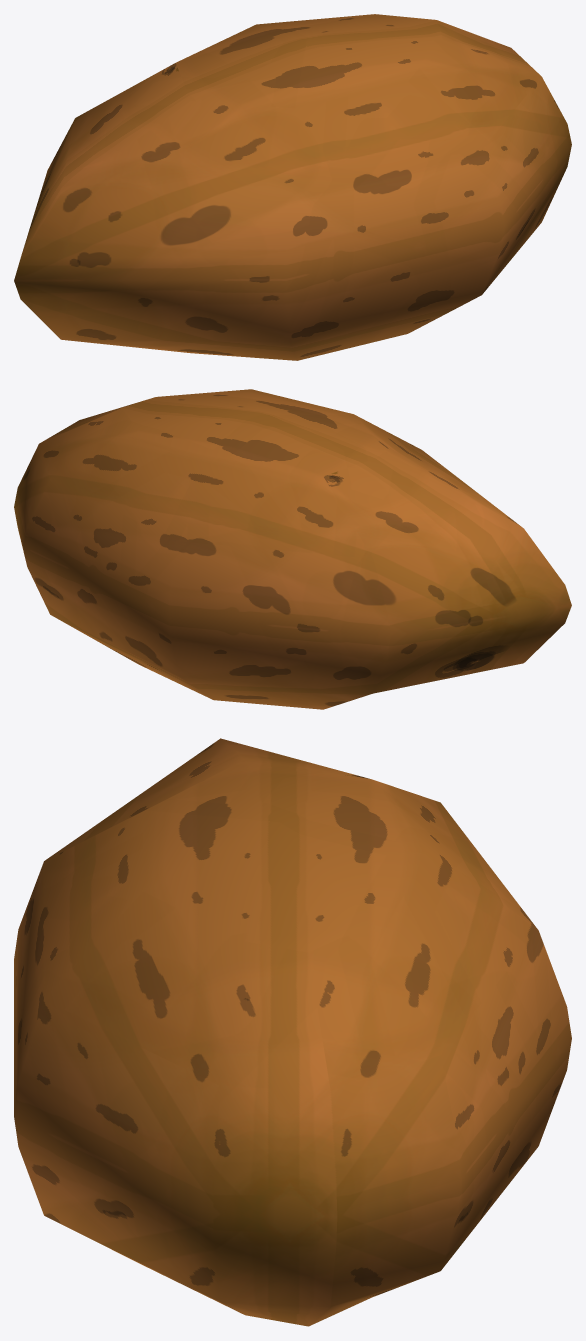
File: fruta cacau.fbx
3 views of the same model, one above another, from view 1: azimuth 30°, elevation 25°; view 2: azimuth 150°, elevation 25°; view 3: azimuth 270°, elevation 25° (orthographic). The views are drawn at different scales.
Visible parts, largest first — view 1: fruta cacau; view 2: fruta cacau; view 3: fruta cacau.
Part boxes in pixels (x1,y1,x2,y2): fruta cacau: (14, 14, 571, 360); fruta cacau: (14, 389, 571, 709); fruta cacau: (14, 738, 571, 1326).
Bounding box in the file's own units: 56.29 × 27.9 × 32.68.
Materials: 1 (1 with a texture image).
